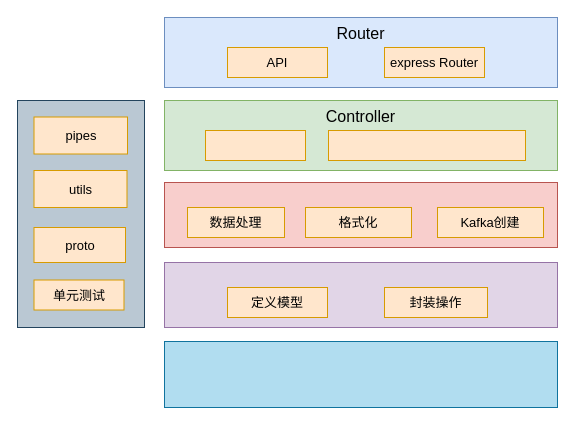
This 575x425 diagram has some shape labels left out. The shapes that lost their labels are listed below. From the top down, each one's box as (x1, y1, x2, y2) in pixels, then its label:
(204, 130, 306, 160): 业务逻辑
(328, 130, 526, 160): 权限/业务/调试/索引库...
(164, 182, 558, 248): Service
(164, 262, 558, 328): Model
(164, 340, 558, 408): Mysql数据库
